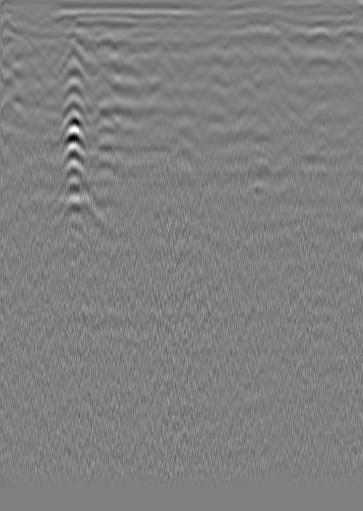가스: (250, 153, 277, 186)
상수: (16, 30, 36, 50)
오수: (312, 23, 332, 43)
우수: (151, 36, 171, 56)
